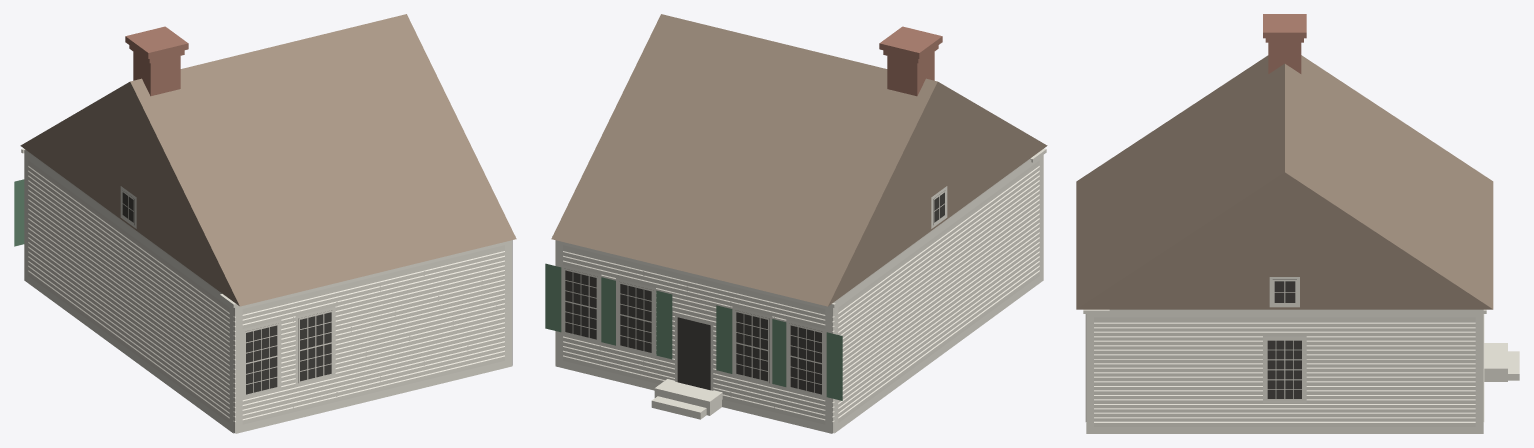
File: recon_1835_blk_school_section_tier_95_h1_05__inferred_1835.glb
3 views of the same model, side by side, from view 1: azimuth 30°, elevation 25°; view 2: azimuth 150°, elevation 25°; view 3: azimuth 270°, elevation 25° (orthographic). The views are drawn at different scales.
Visible parts, largest first — view 1: recon_1835_blk_school_section_tier_95_h1_05__inferred_1835; view 2: recon_1835_blk_school_section_tier_95_h1_05__inferred_1835; view 3: recon_1835_blk_school_section_tier_95_h1_05__inferred_1835.
Part boxes in pixels (x1,y1,x2,y2): recon_1835_blk_school_section_tier_95_h1_05__inferred_1835: (14,14,516,433); recon_1835_blk_school_section_tier_95_h1_05__inferred_1835: (545,14,1047,433); recon_1835_blk_school_section_tier_95_h1_05__inferred_1835: (1076,14,1519,433).
Size of the model in its own units: 8.32 by 8.3 by 11.32.
